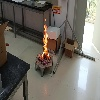fire: (39, 16, 49, 60)
